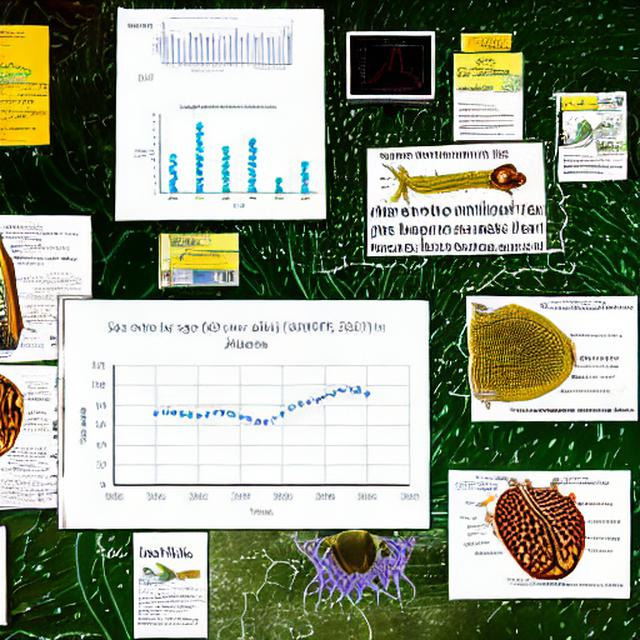Graph: (67, 312, 424, 527), (127, 99, 323, 214), (153, 14, 253, 75), (355, 38, 431, 95)
